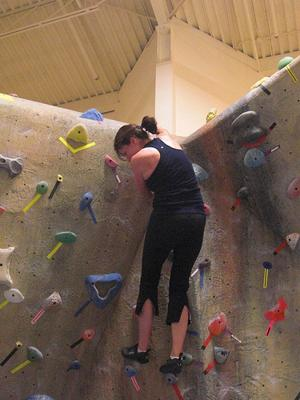person: (114, 116, 207, 373)
